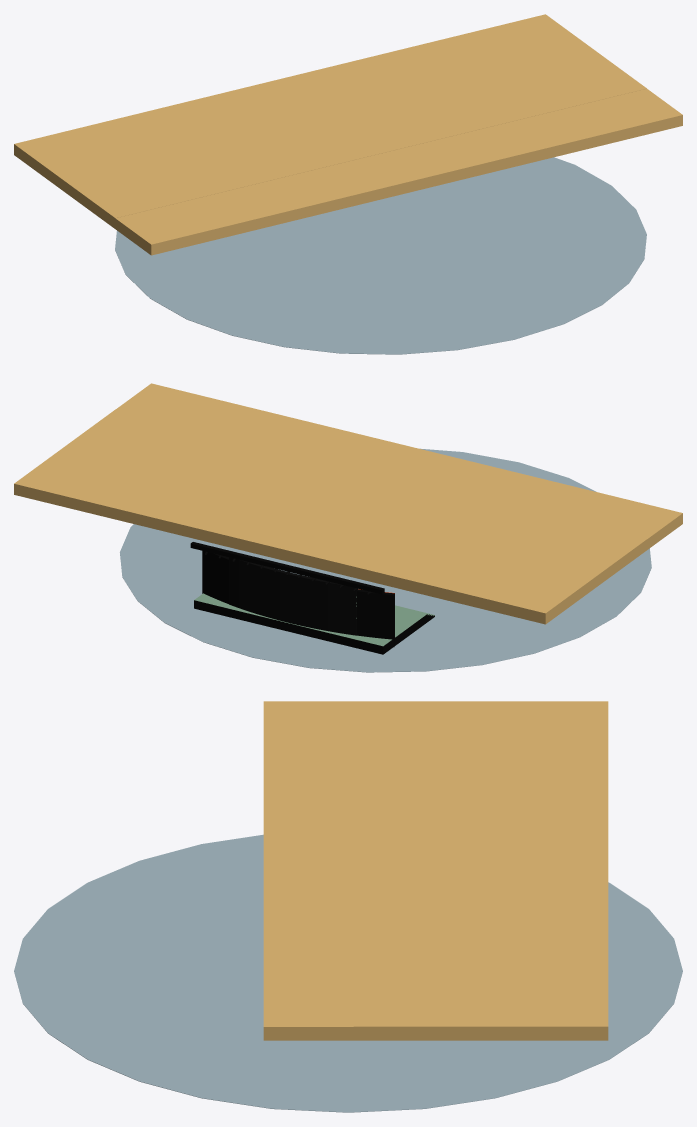
The model's file is stage.fbx.
3 views of the same model, one above another, from view 1: azimuth 30°, elevation 25°; view 2: azimuth 150°, elevation 25°; view 3: azimuth 270°, elevation 25° (orthographic). The views are drawn at different scales.
Parts seen in each view (by area): view 1: floor, Box034, Rectangle014; view 2: Box034, floor, Rectangle014, Shape021, Rectanwgle027, Shape022, truss01; view 3: Box034, floor, Rectangle014.
Boxes of the visible parts, <box> form: floor: <box>115,157,646,354</box>; Box034: <box>14,14,646,218</box>; Rectangle014: <box>14,89,682,255</box>; Box034: <box>14,409,646,613</box>; floor: <box>120,448,651,672</box>; Rectangle014: <box>14,383,682,624</box>; Shape021: <box>229,557,357,635</box>; Rectanwgle027: <box>194,593,427,654</box>; Shape022: <box>202,551,394,646</box>; truss01: <box>190,542,384,594</box>; Box034: <box>353,701,608,1026</box>; floor: <box>14,834,682,1112</box>; Rectangle014: <box>263,701,608,1040</box>.
Bounding box in the file's own units: 1987 × 310 × 1726.
